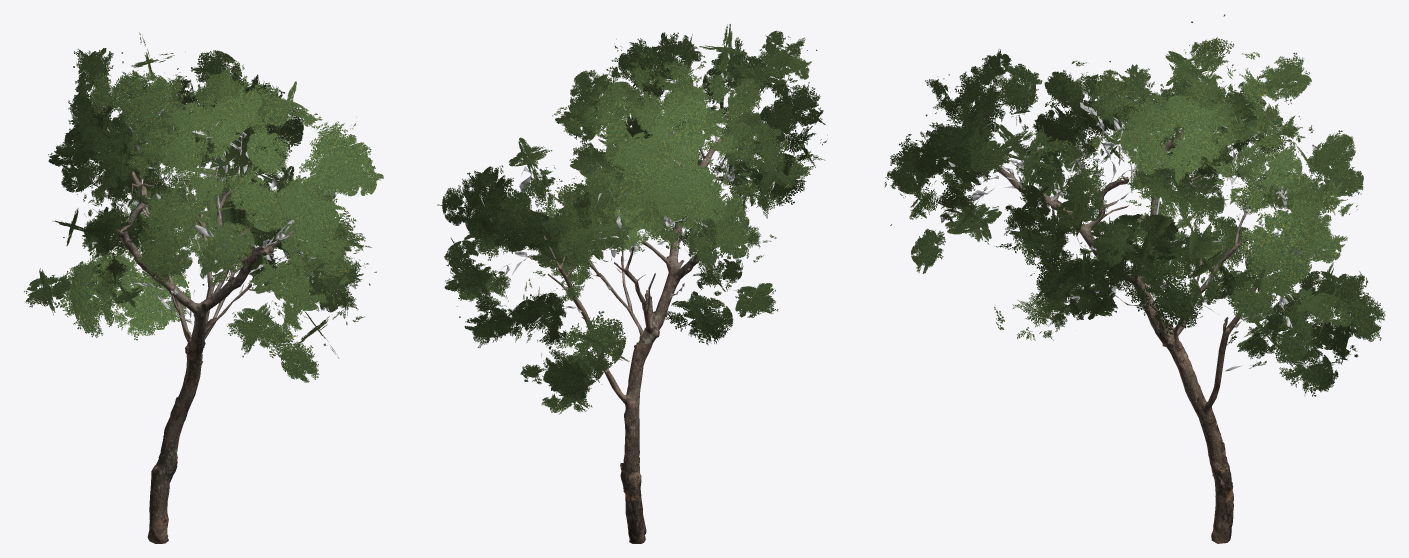
File: tree_small_02_nah.gltf
The picture shows the model from 3 angles, left to right: view 1: azimuth 30°, elevation 25°; view 2: azimuth 150°, elevation 25°; view 3: azimuth 270°, elevation 25°; orthographic projection. The views are drawn at different scales.
Parts seen in each view (by area): view 1: baum; view 2: baum; view 3: baum.
Part boxes in pixels (bbox=[...]): baum: bbox=[24, 32, 383, 543]; baum: bbox=[437, 24, 827, 543]; baum: bbox=[884, 14, 1385, 543].
Size of the model in its own units: 3.3 by 4.79 by 4.52.
